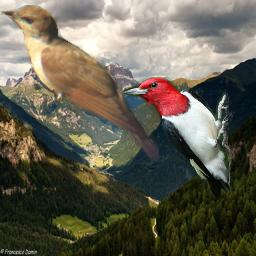Cuckoo: (1, 5, 159, 161)
Woodpecker: (119, 77, 236, 200)
